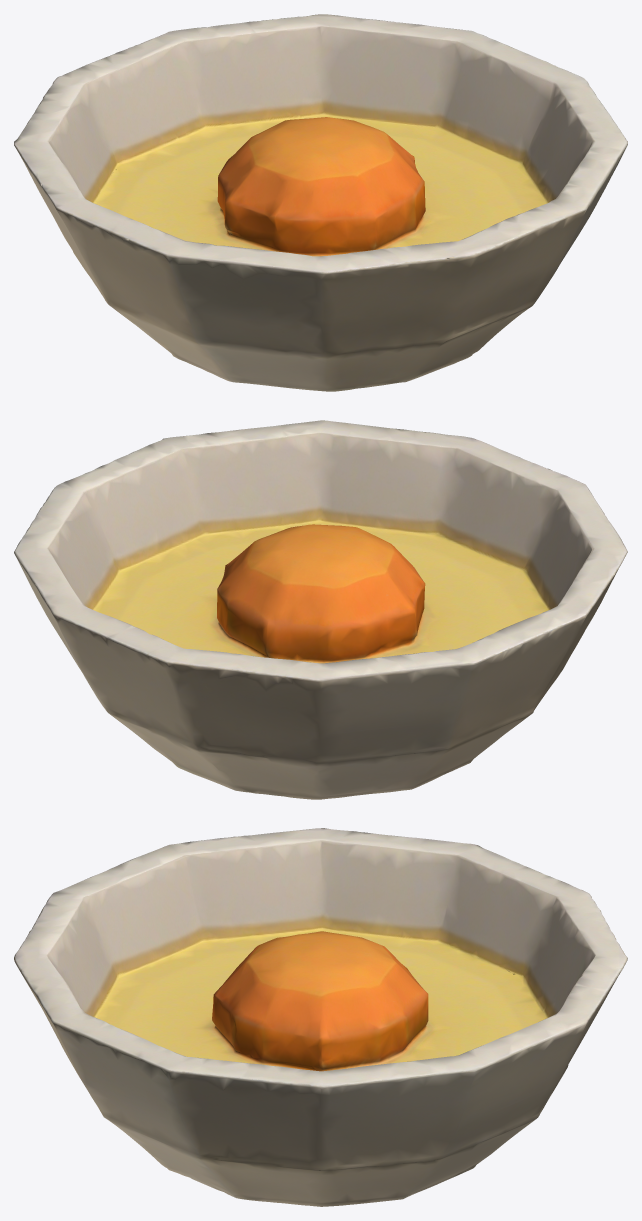
File: Meshy_AI_Low_Poly_Egg_in_a_Bow_0422185322_texture.fbx
3 renders of one model, top to bottom at view 1: azimuth 30°, elevation 25°; view 2: azimuth 150°, elevation 25°; view 3: azimuth 270°, elevation 25°, orthographic.
Visible parts, largest first — view 1: Mesh_0; view 2: Mesh_0; view 3: Mesh_0.
Boxes of the visible parts, bbox=[...] form: Mesh_0: bbox=[14, 14, 627, 391]; Mesh_0: bbox=[14, 420, 627, 799]; Mesh_0: bbox=[14, 828, 627, 1206].
Size of the model in its own units: 200 by 72.12 by 200.
1 material, 1 textured.
